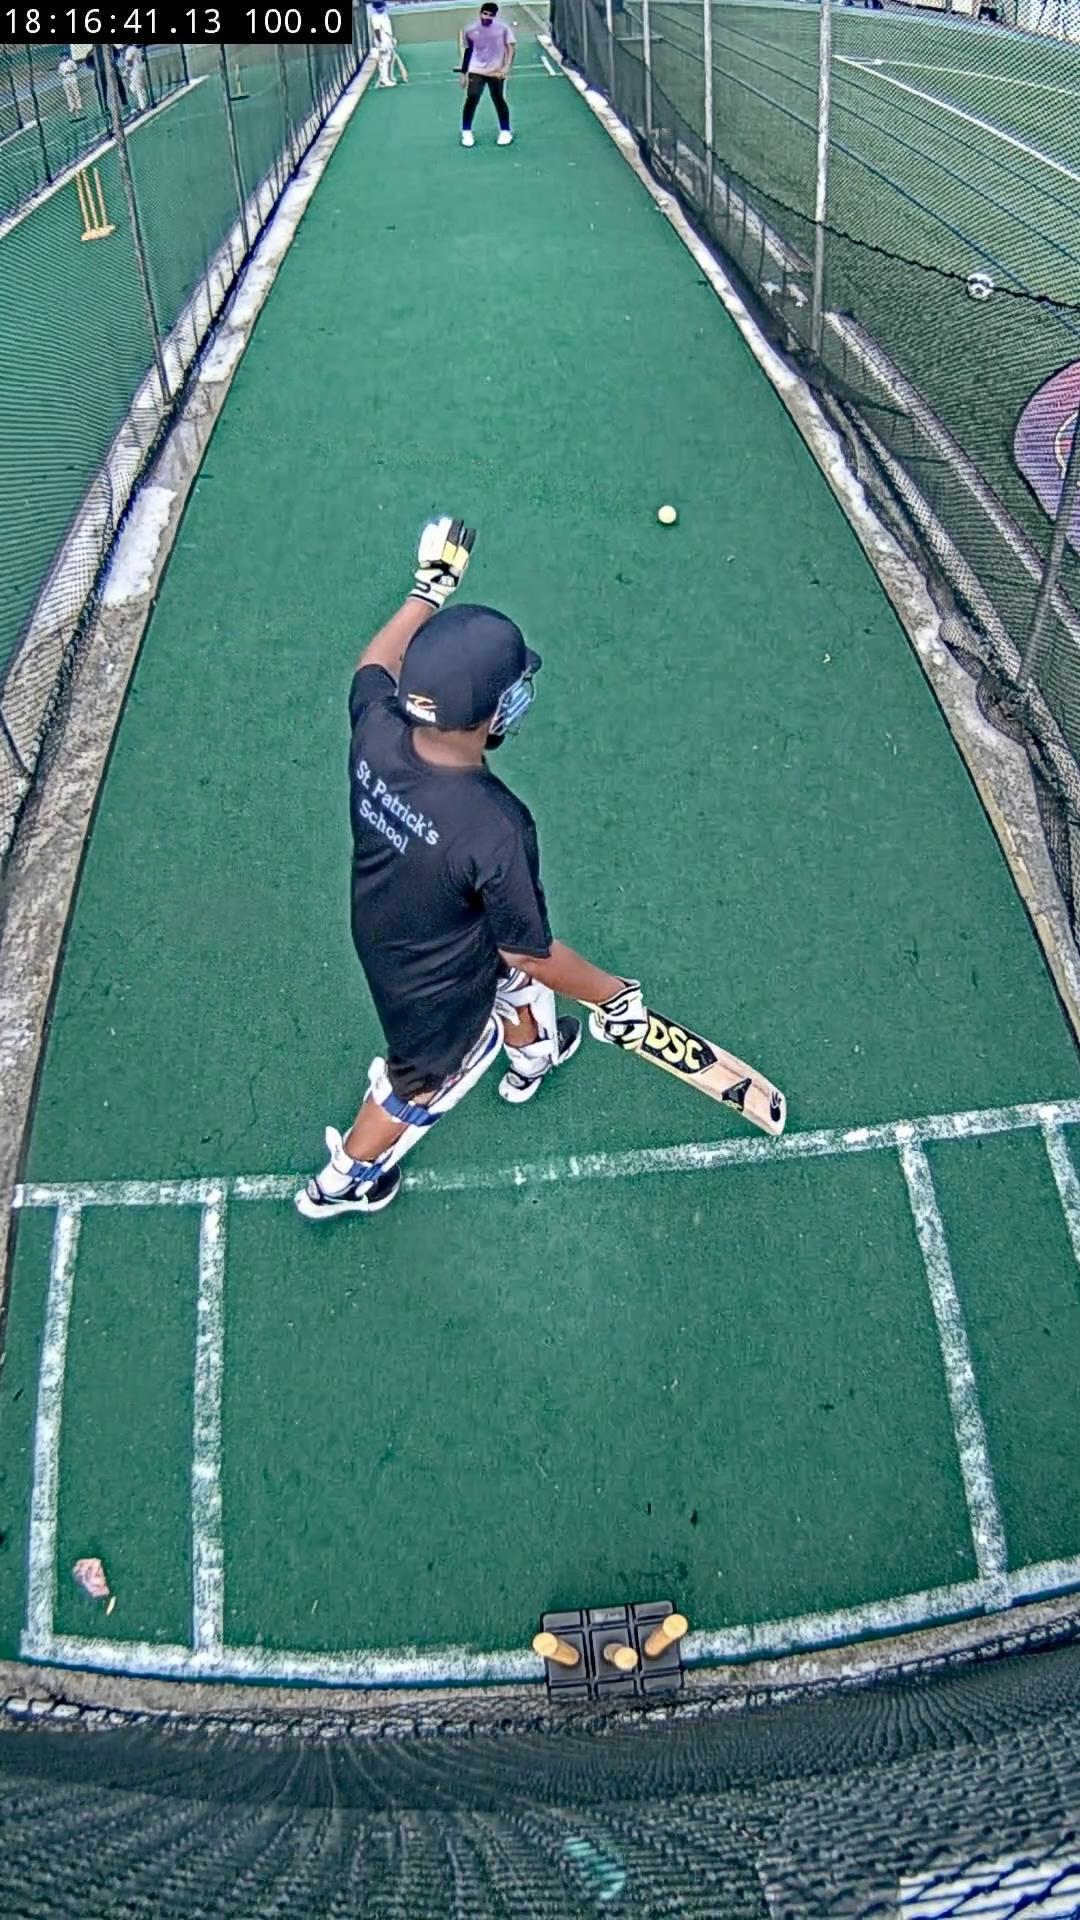ball: (657, 506, 679, 525)
bat: (622, 1013, 787, 1137)
gloves: (588, 978, 649, 1044)
helmet: (397, 604, 541, 738)
pads: (386, 1017, 502, 1164)
stumps: (533, 1601, 686, 1702)
